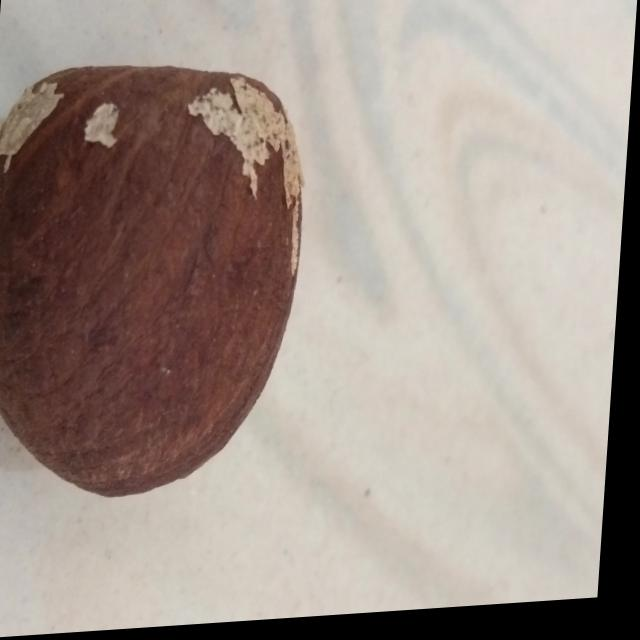karigot: (0, 50, 336, 552)
